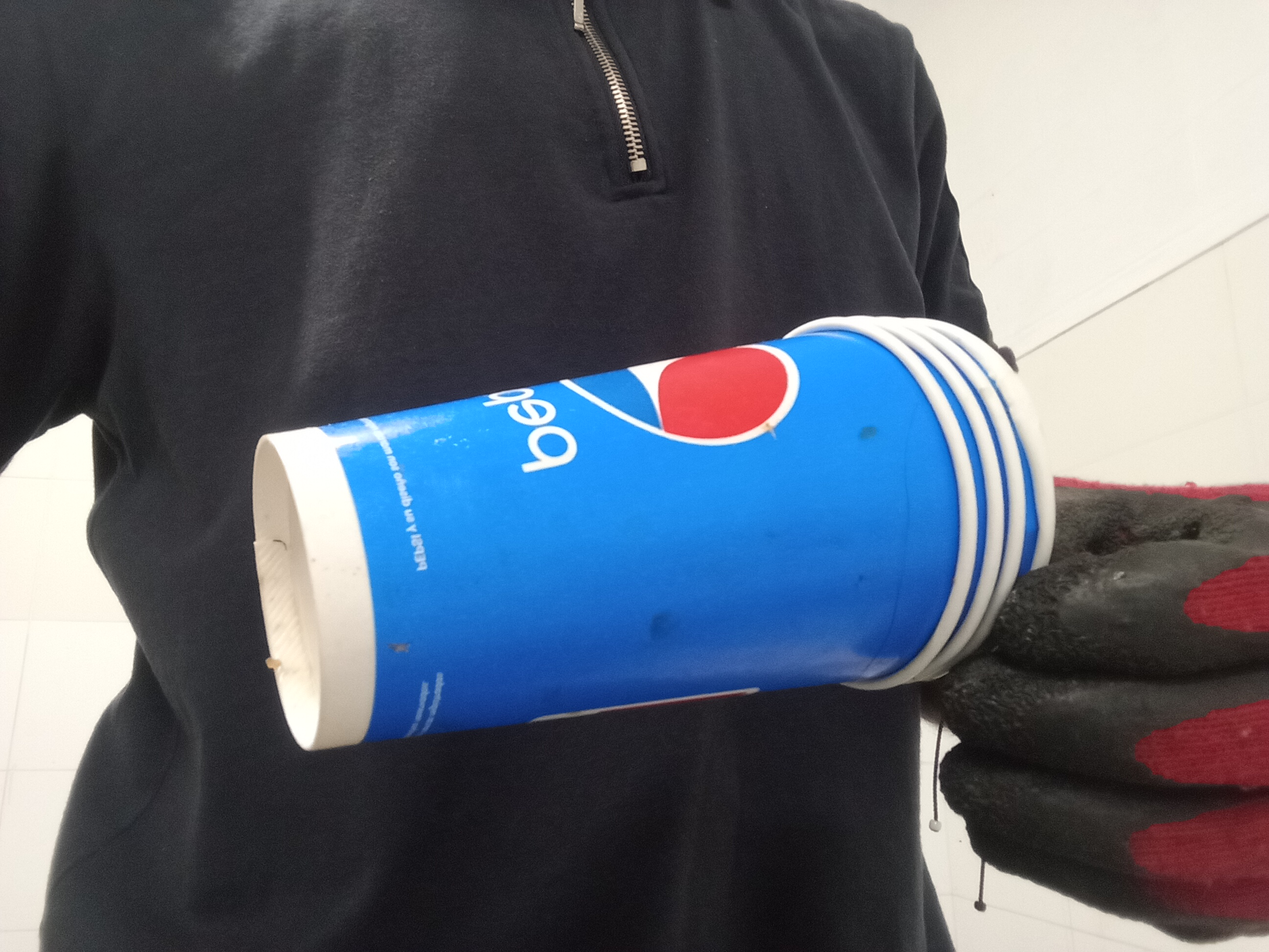Carton: (252, 312, 1058, 752)
